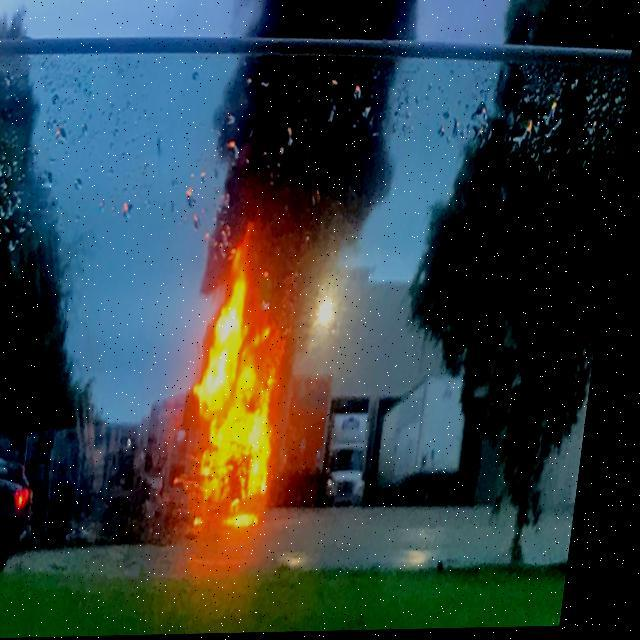Fire: (192, 270, 298, 524)
